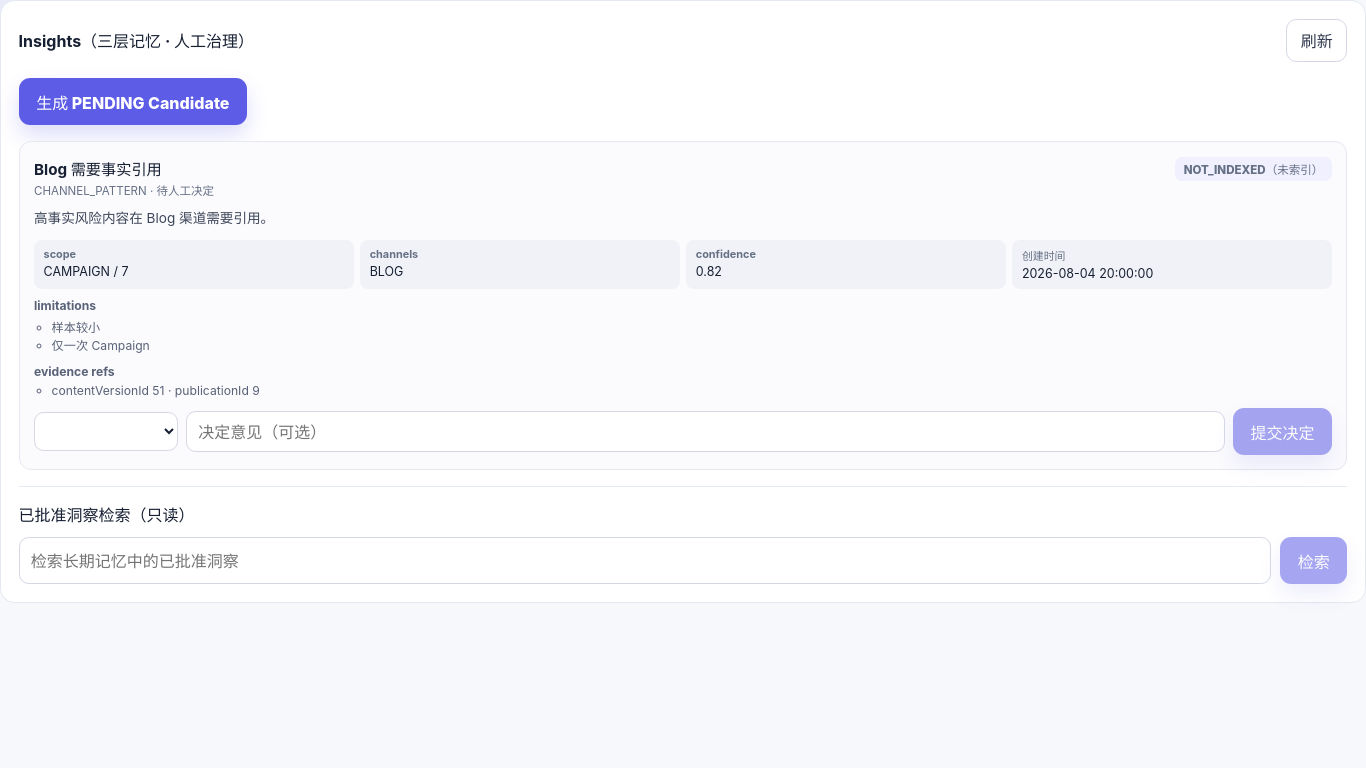
it: InsightPanel › approval starts a bounded refresh that never fakes success for a failed index
Select "APPROVE" in the dropdown with test id "insight-decision" at (106, 432), box [34,412,178,451]
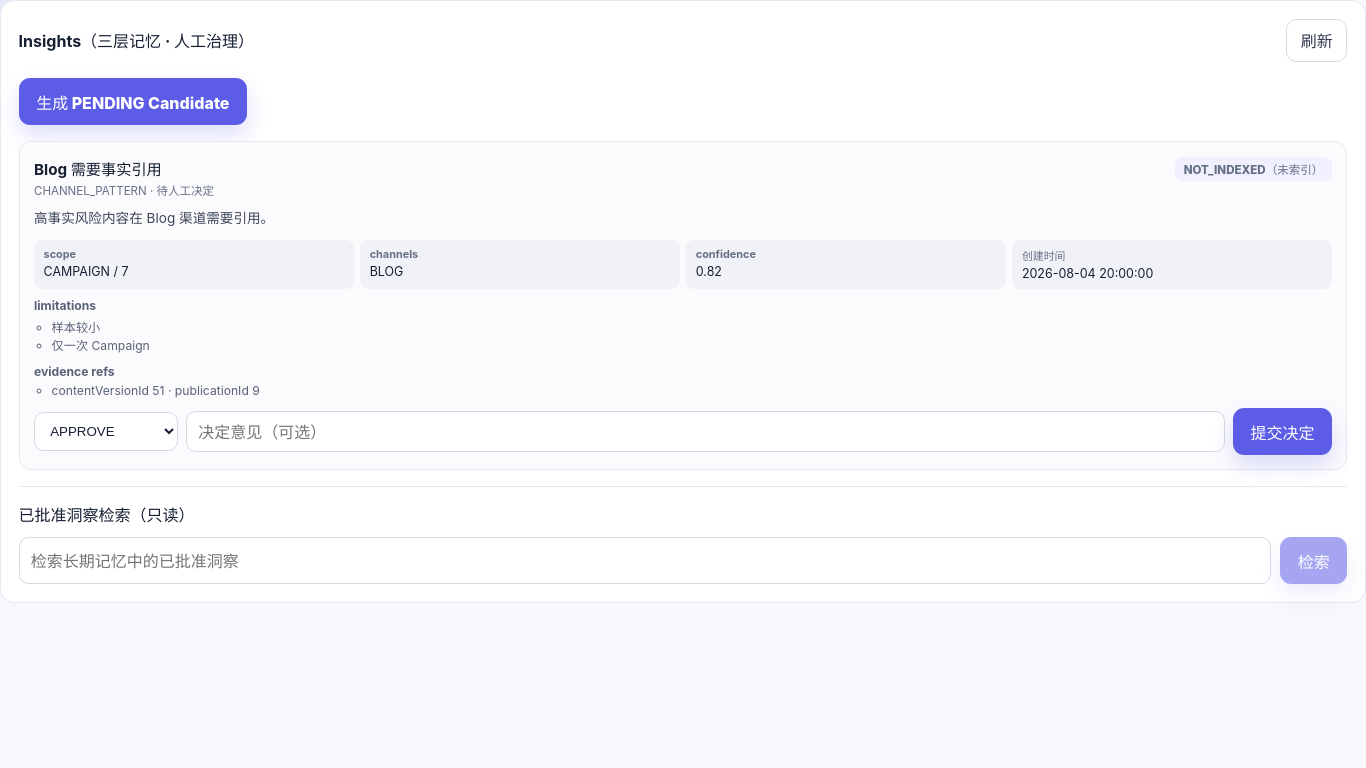
Click the button with test id "insight-decide-submit".
click(1282, 432)  # box [1233,408,1332,455]
Wait 4000 ms
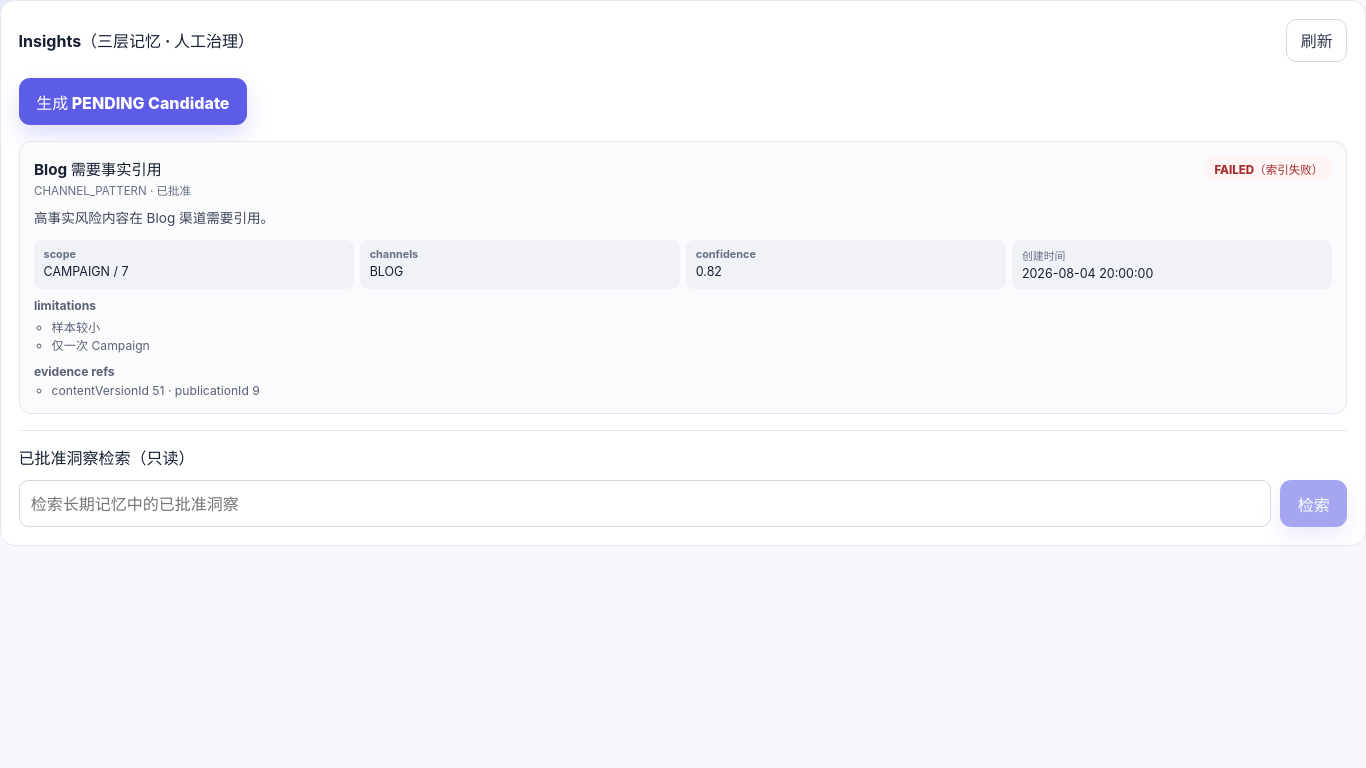
Check: the text "FAILED" is shown, box [1214,163,1323,177]
Check: the text "INDEXED" is gone
